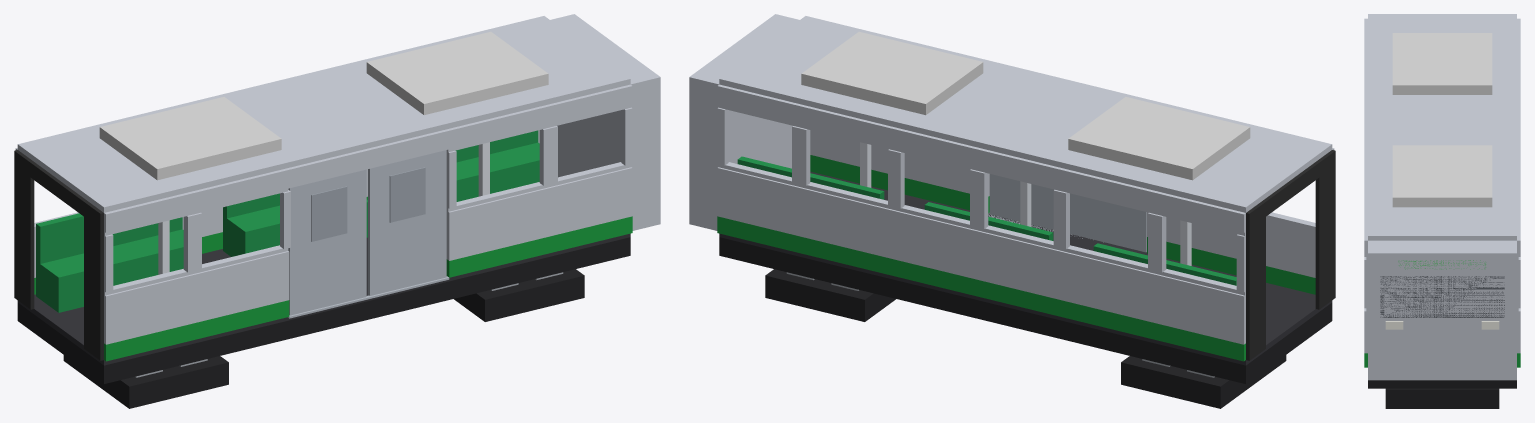
The model's file is metro_wagon_lead_closed_l2.obj.
The picture shows the model from 3 angles, left to right: view 1: azimuth 30°, elevation 25°; view 2: azimuth 150°, elevation 25°; view 3: azimuth 270°, elevation 25°; orthographic projection. The views are drawn at different scales.
Bounding box in the file's own units: 3.16 × 1.26 × 0.88.
